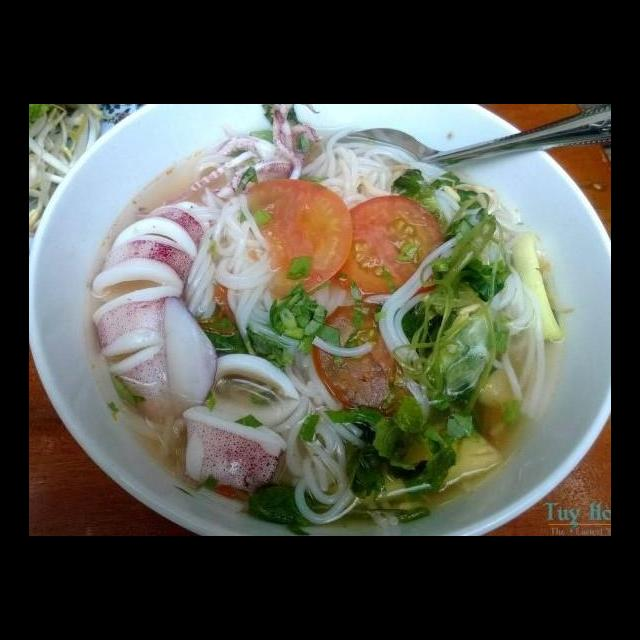bun: (373, 228, 552, 423), (290, 123, 497, 239), (270, 348, 401, 531), (180, 186, 312, 358)
muc: (83, 197, 227, 433), (159, 105, 325, 215), (177, 400, 290, 500), (203, 348, 302, 433)
